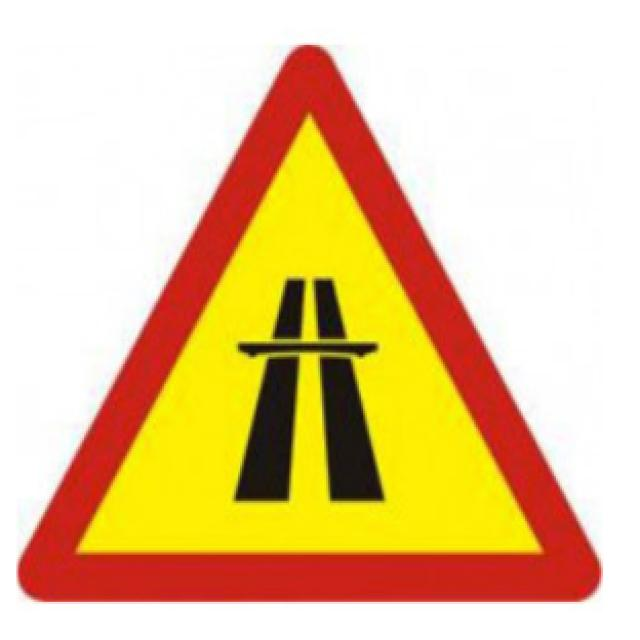Bien bao duong cao toc phia truoc: (4, 3, 623, 621)
